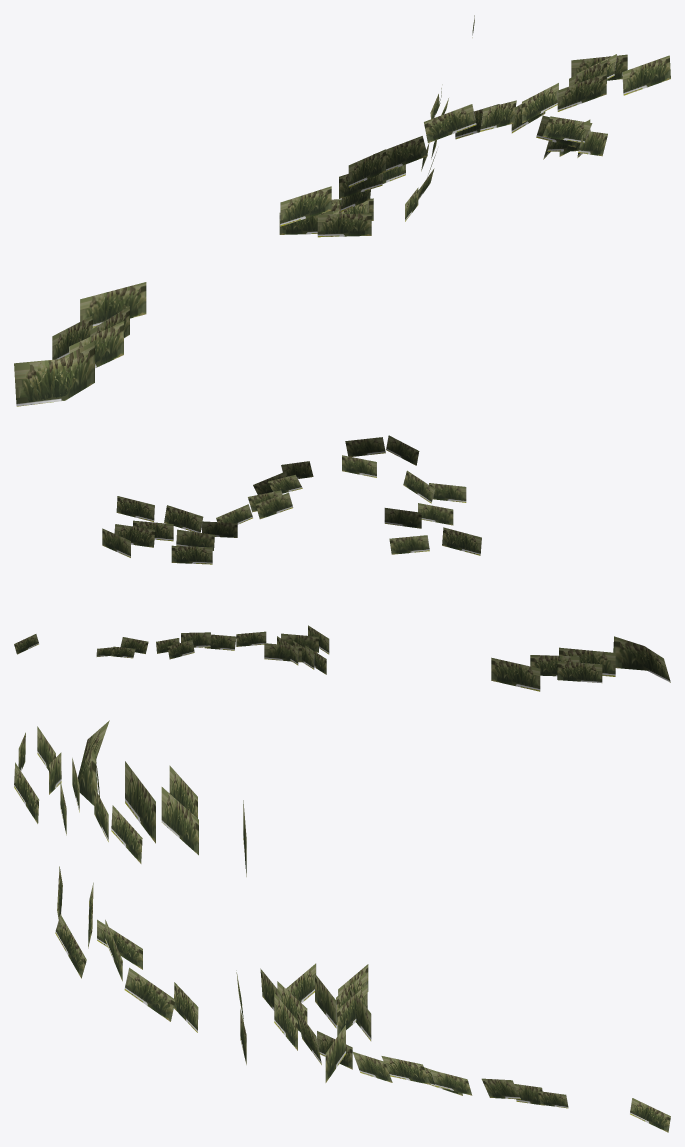
Rendered from Bf01g_grass_1v1_add.fbx.
3 renders of one model, top to bottom at view 1: azimuth 30°, elevation 25°; view 2: azimuth 150°, elevation 25°; view 3: azimuth 270°, elevation 25°, orthographic. The views are drawn at different scales.
Visible parts, largest first — view 1: f_grass_add; view 2: f_grass_add; view 3: f_grass_add.
Boxes of the visible parts, <box> form: f_grass_add: <box>14,15,670,406</box>; f_grass_add: <box>14,435,670,691</box>; f_grass_add: <box>14,720,670,1132</box>.
Size of the model in its own units: 89.01 by 26.3 by 56.68.
1 material, 1 textured.
